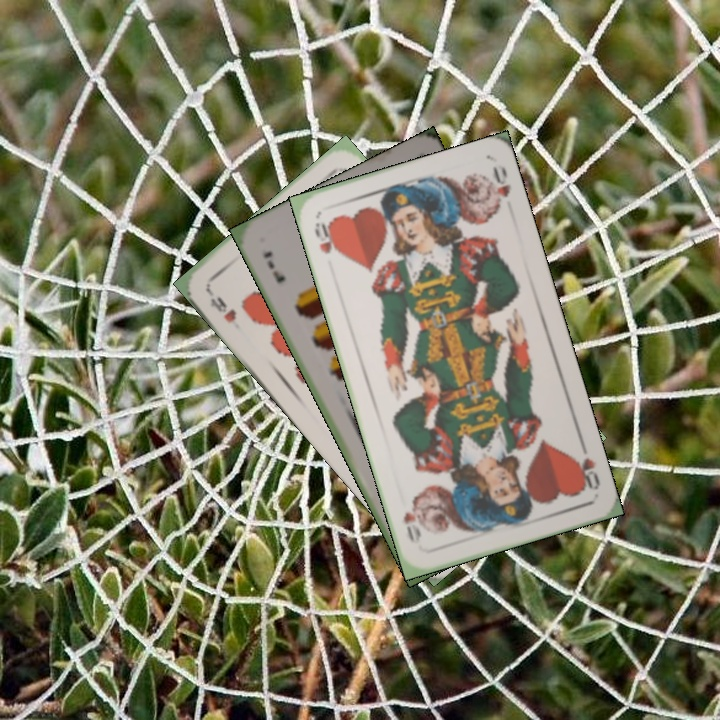E7: (259, 247, 288, 286)
H9: (203, 285, 240, 326)
HO: (570, 437, 603, 493), (310, 218, 342, 258)
